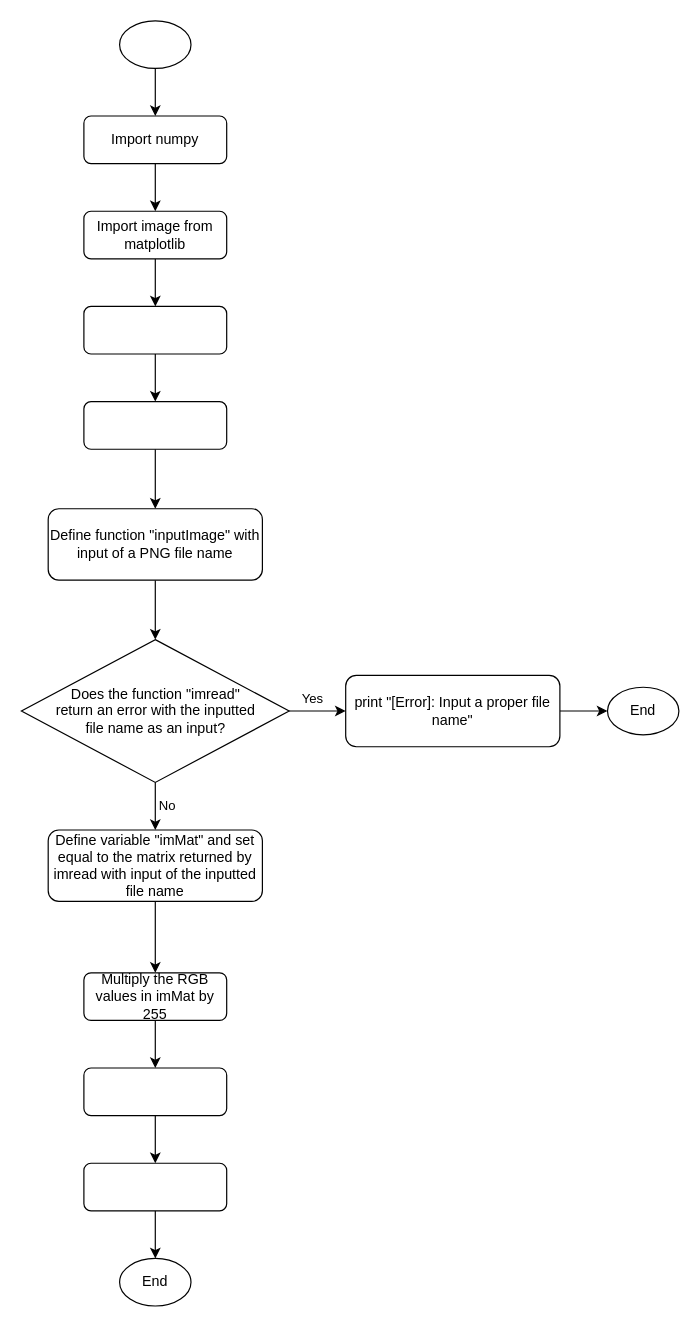
This 700x1327 diagram has some shape labels left out. Each missing label, with the box of its shape:
Import pyplot from matplotlib: (83, 305, 227, 354)
Import sys: (83, 400, 227, 449)
return imMat: (83, 1162, 227, 1211)
Round RGB values in imMat to whole numbers: (83, 1067, 227, 1116)
Start: (118, 20, 191, 68)
